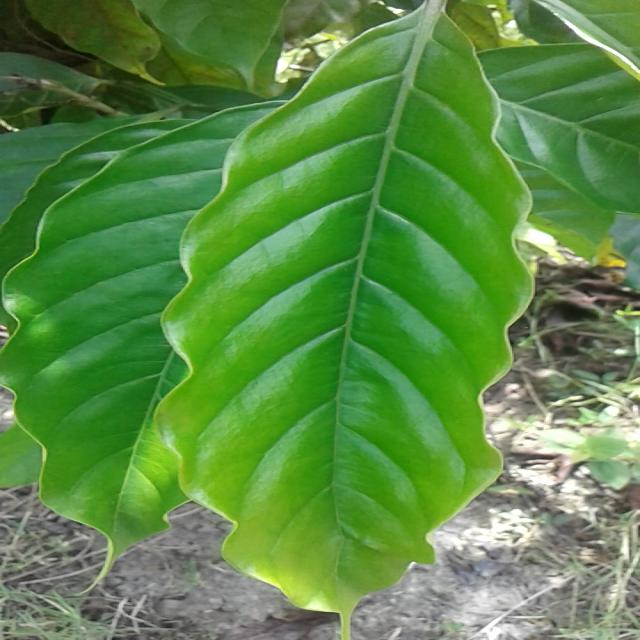Sanas: (144, 0, 540, 623)
